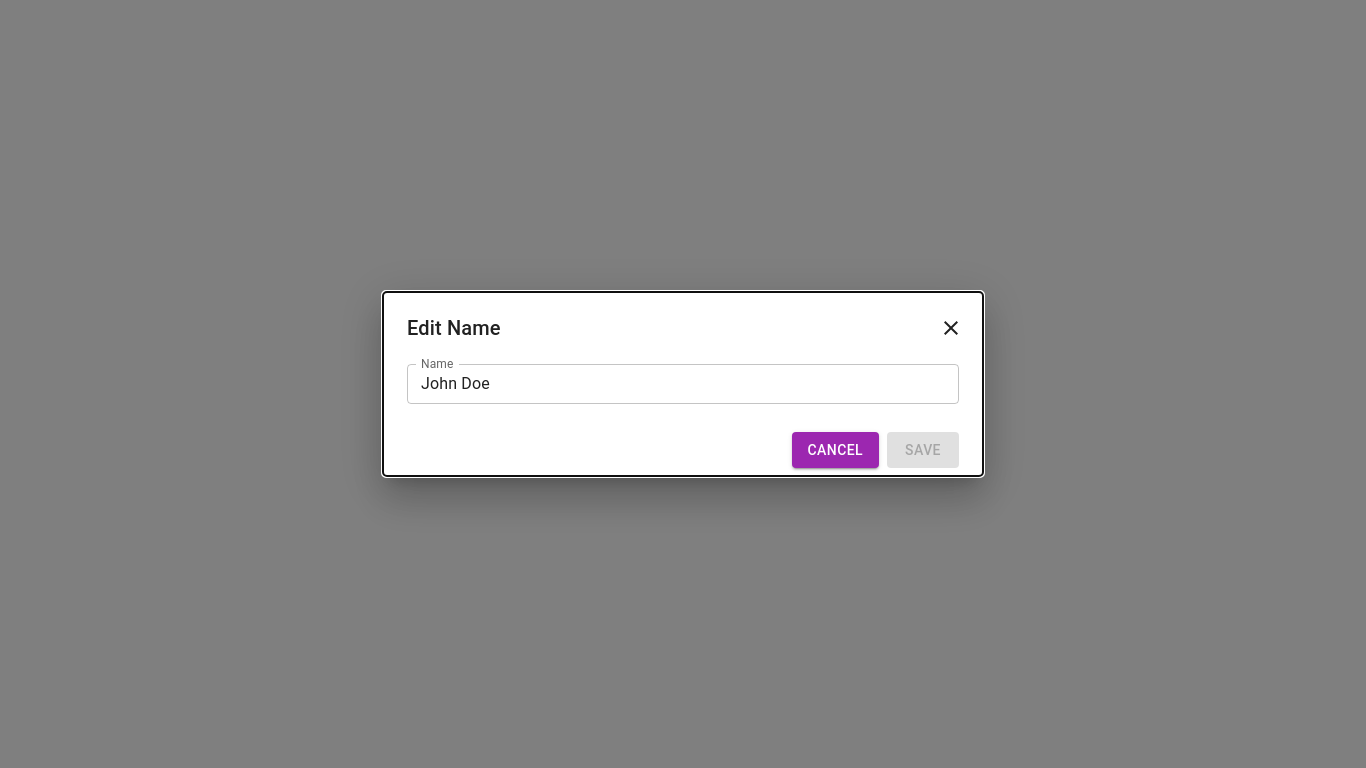
Test: NameEditModal › Form validation - leading spaces › shows error when name starts with space
Clear the field labelled "Name": (683, 384) [407,364,959,404]
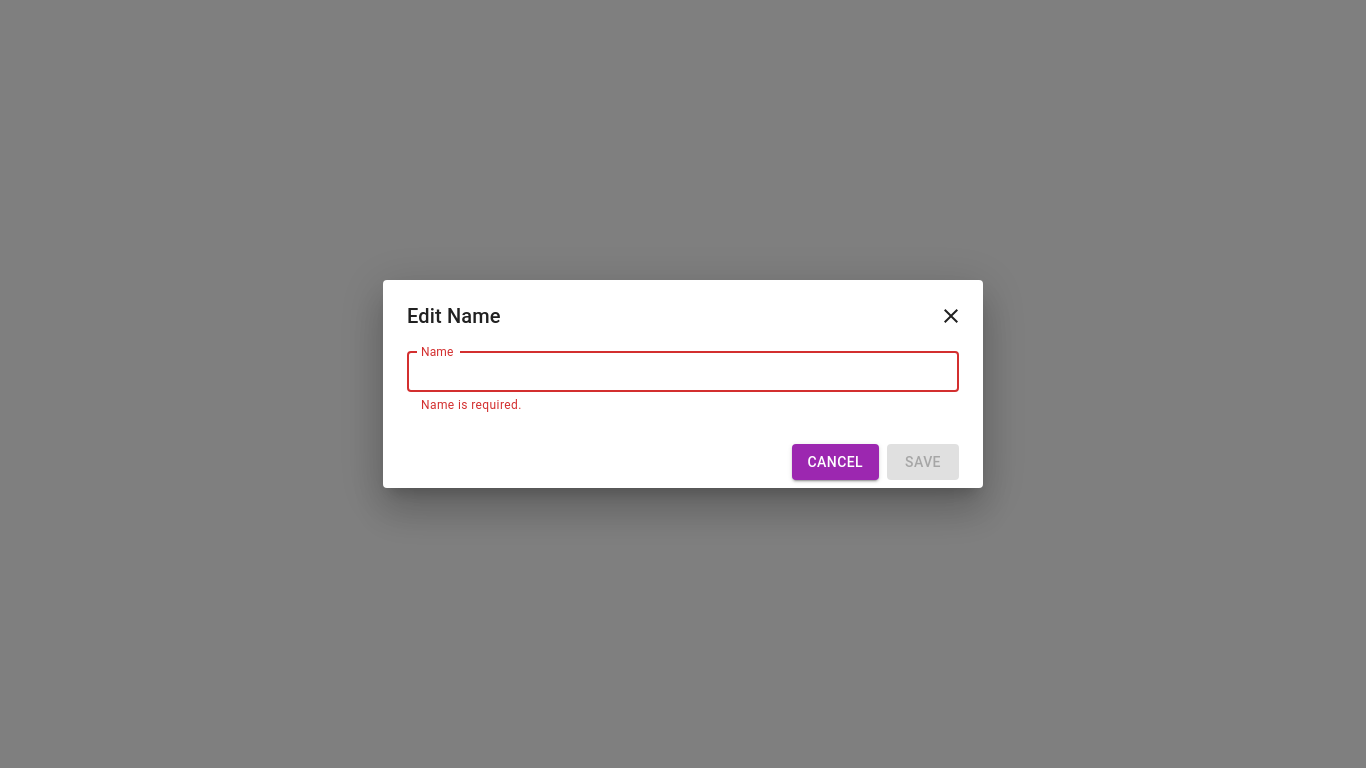
In the field labelled "Name": (683, 372) [407,352,959,392], type " Invalid Name"
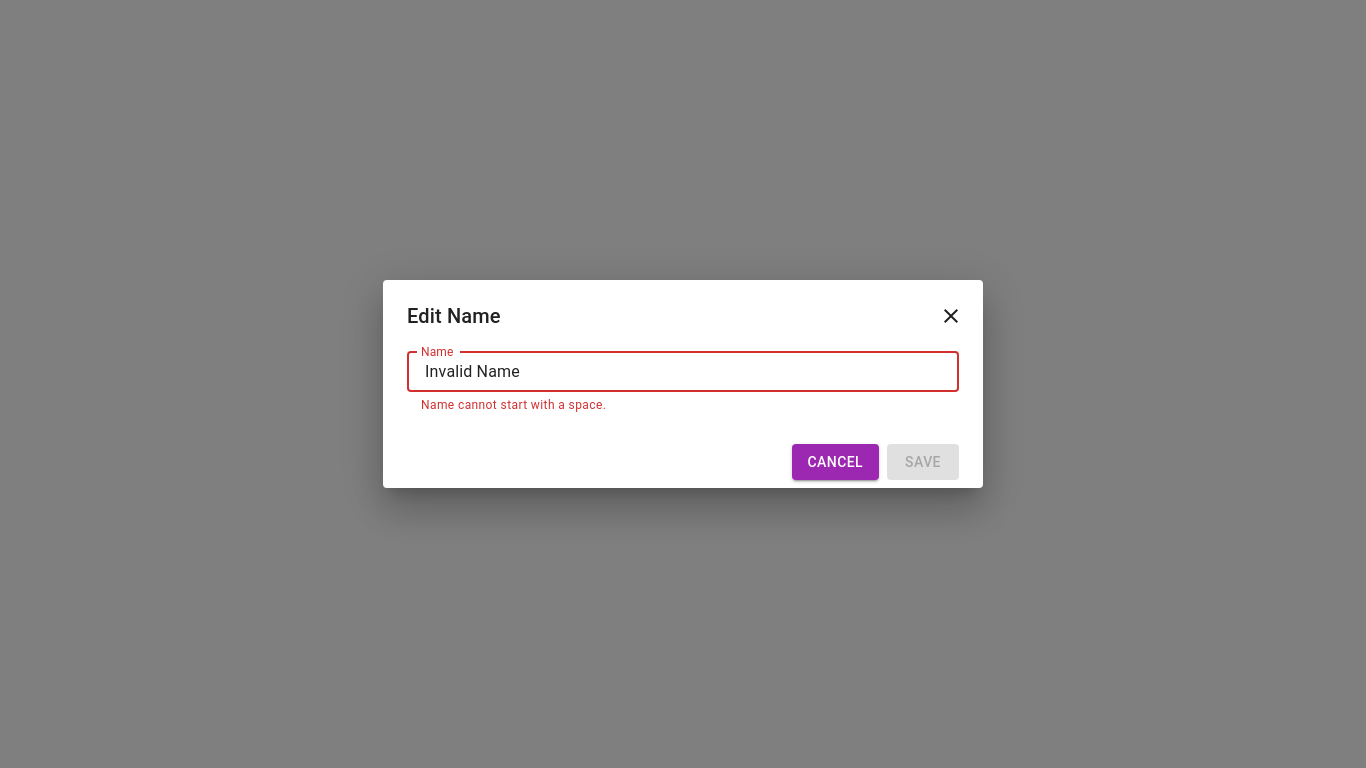
Result: the text "Name cannot start with a space." is shown at [421,398,606,412]
